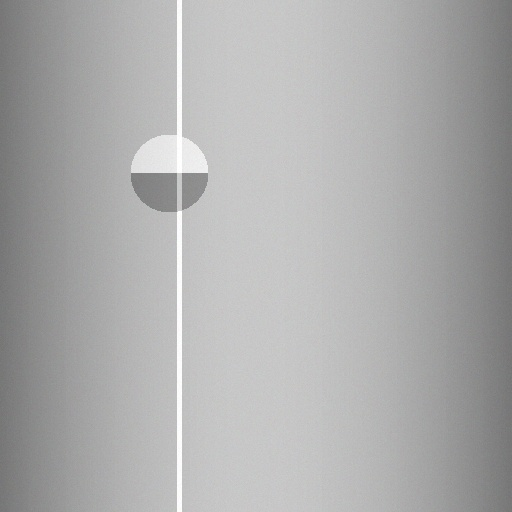deformation: (125, 129, 213, 217)
